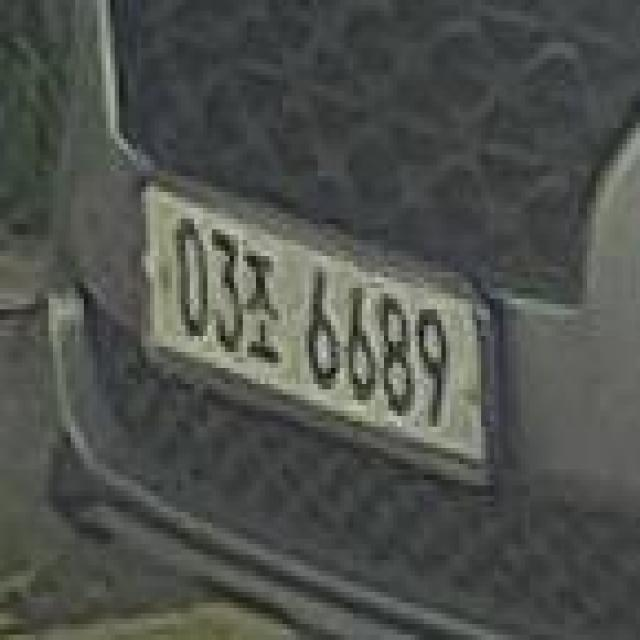illegal_plate: (146, 171, 498, 496)
